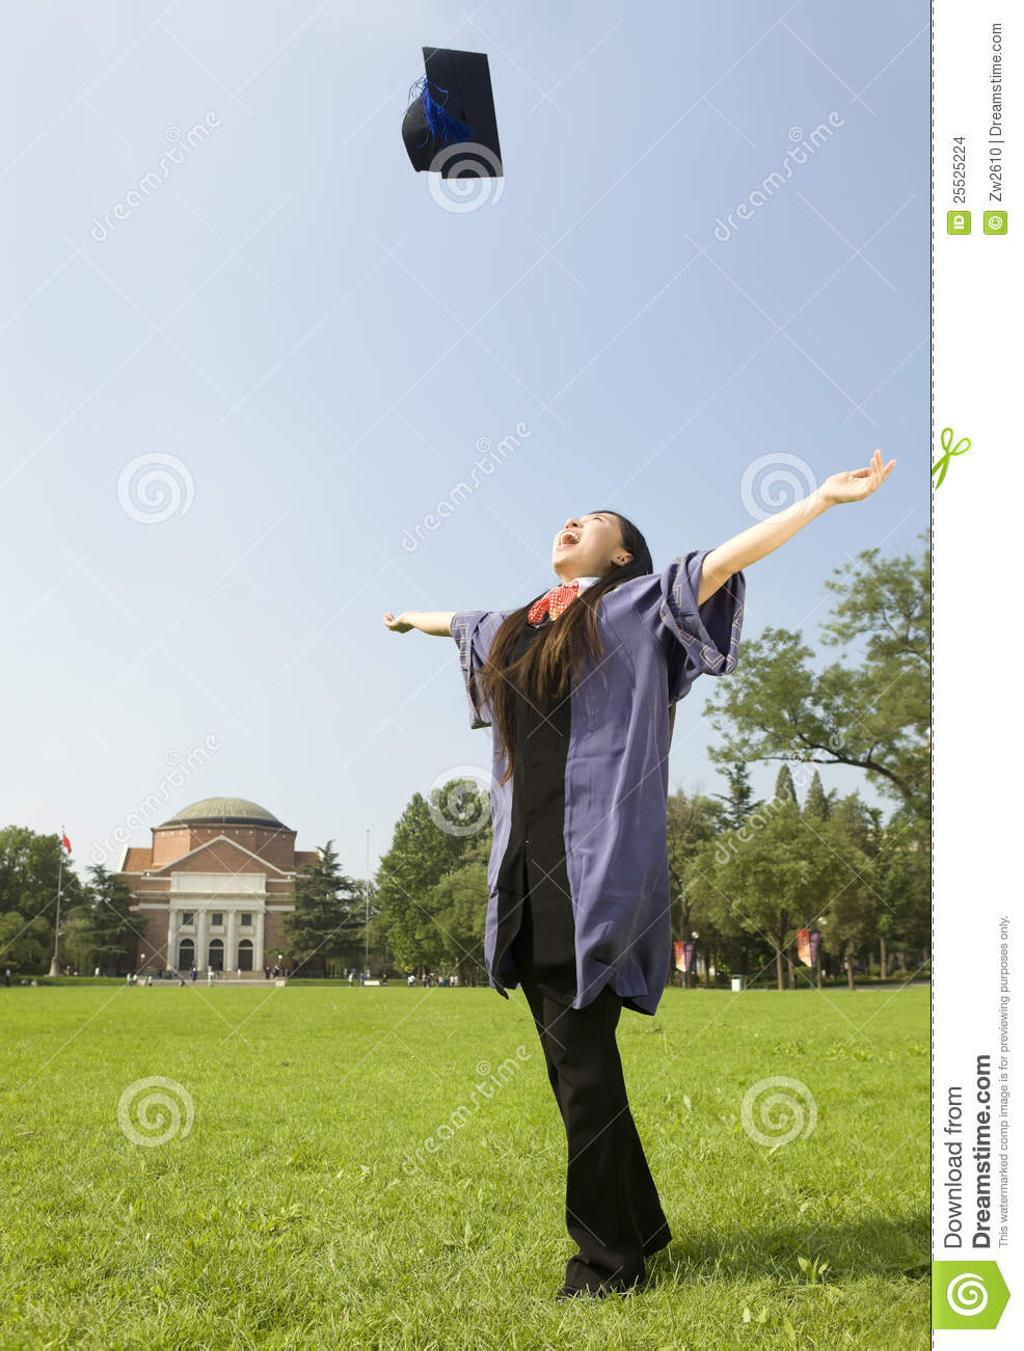face: (550, 512, 619, 572)
